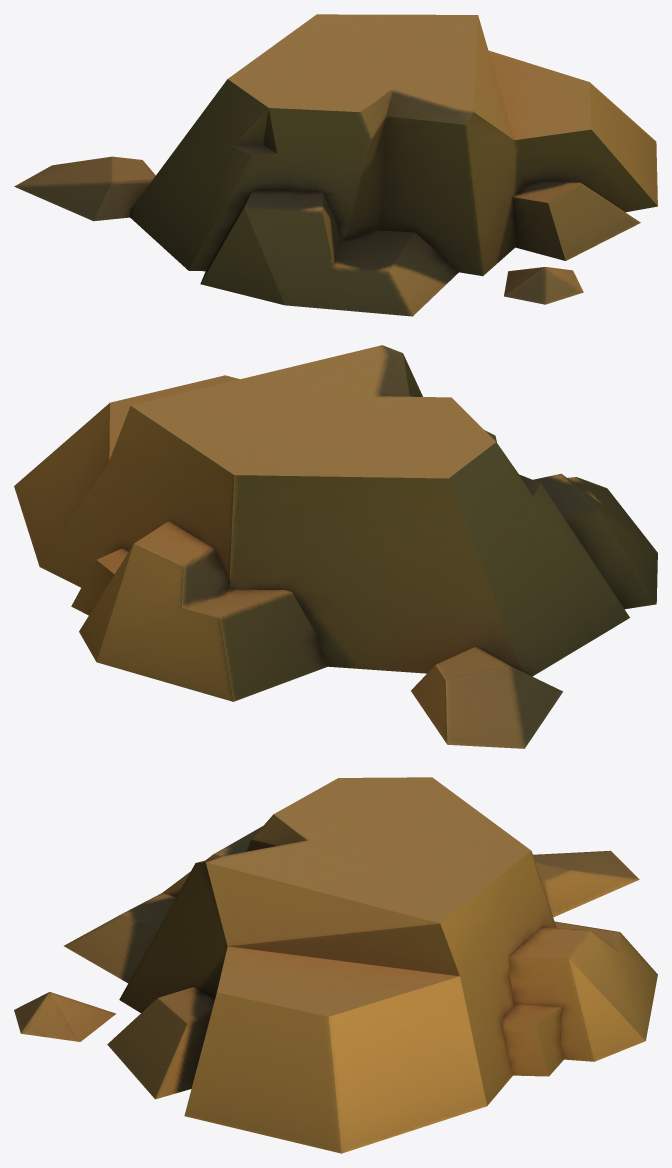
Rendered from Sce_worldmap_copper_01.FBX.
The picture shows the model from 3 angles, top to bottom: view 1: azimuth 30°, elevation 25°; view 2: azimuth 150°, elevation 25°; view 3: azimuth 270°, elevation 25°; orthographic projection. The views are drawn at different scales.
Visible parts, largest first — view 1: Sce_worldmap_copper_01; view 2: Sce_worldmap_copper_01; view 3: Sce_worldmap_copper_01.
Part boxes in pixels (x1,y1,x2,y2): Sce_worldmap_copper_01: (14, 14, 657, 316); Sce_worldmap_copper_01: (14, 345, 657, 748); Sce_worldmap_copper_01: (14, 777, 657, 1153).
Bounding box in the file's own units: 51.49 × 12.24 × 46.27.
